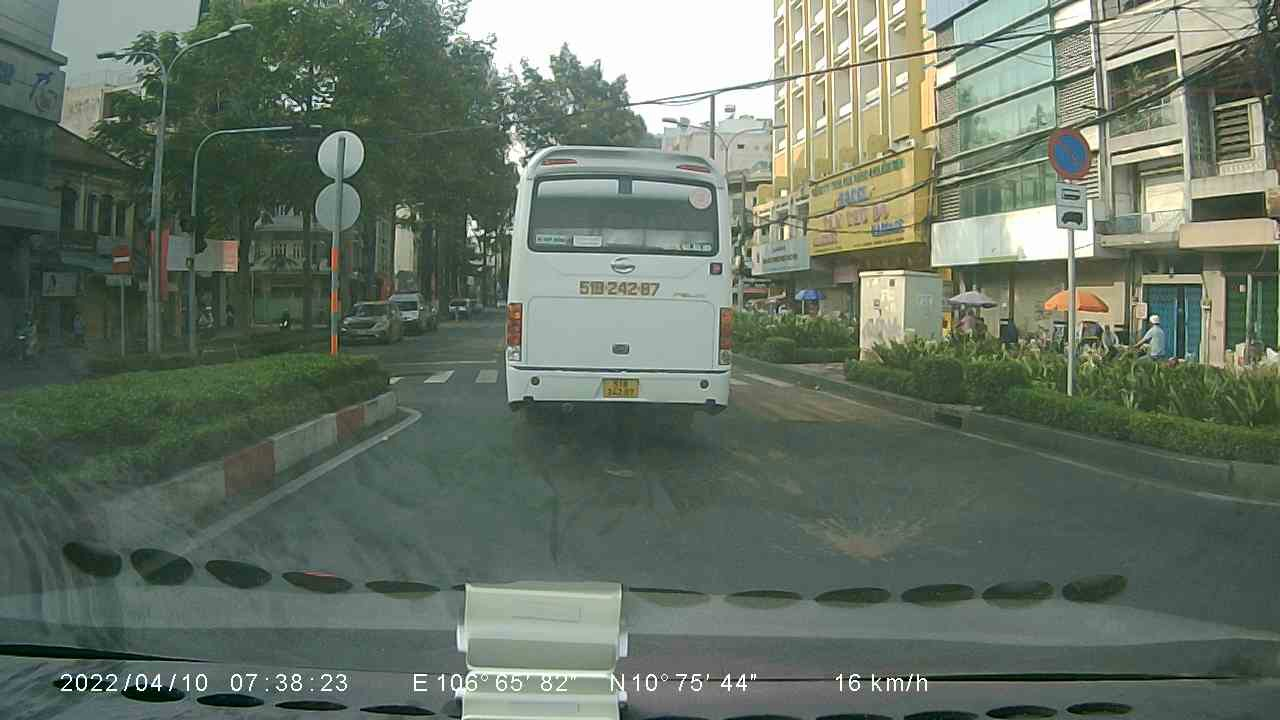Cam do xe: (1046, 124, 1098, 181)
